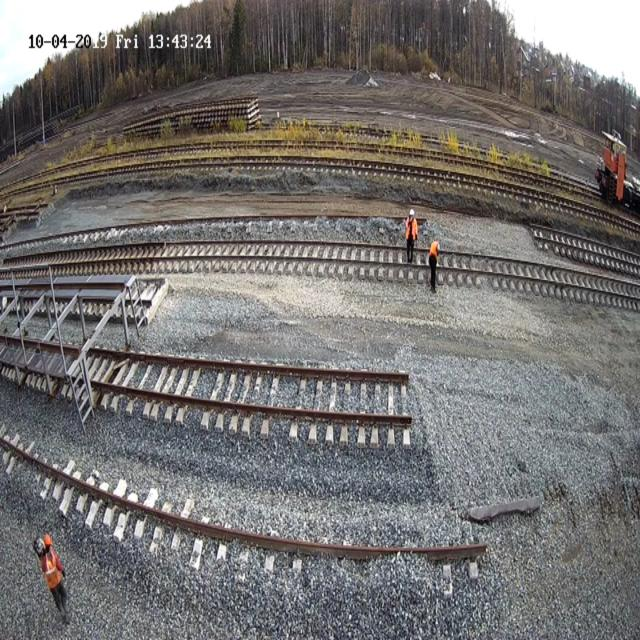Helmet: (44, 534, 52, 546), (409, 208, 414, 216)
Person: (35, 532, 71, 624), (405, 209, 418, 263), (428, 240, 439, 293)
